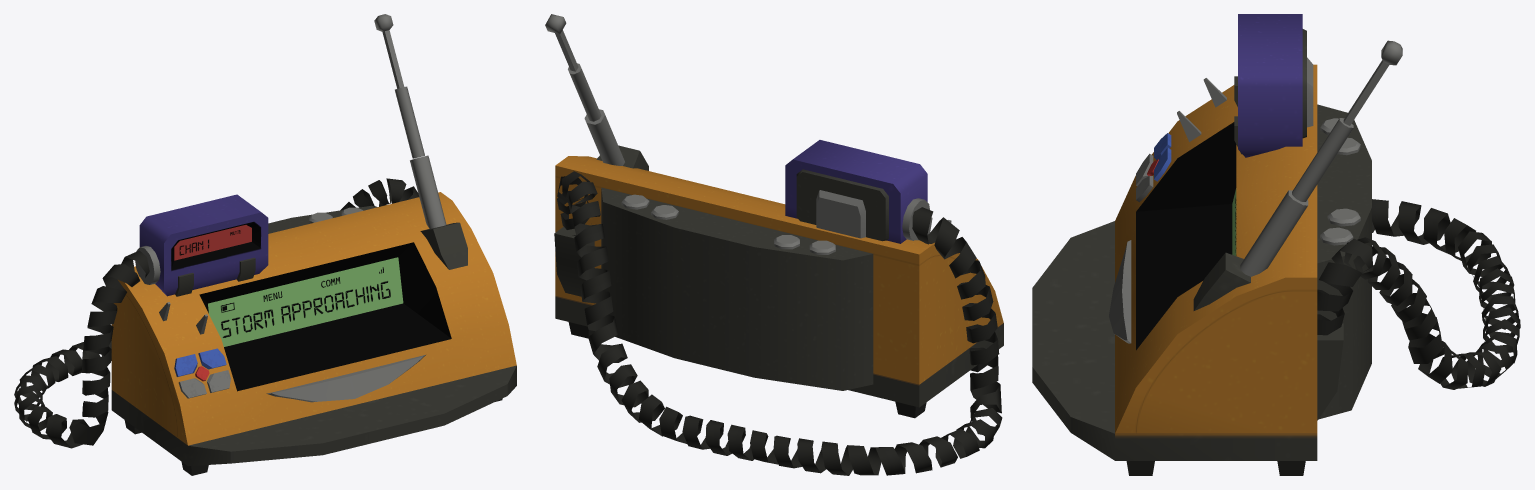
File: weather radio.fbx
3 views of the same model, side by side, from view 1: azimuth 30°, elevation 25°; view 2: azimuth 150°, elevation 25°; view 3: azimuth 270°, elevation 25° (orthographic). The views are drawn at different scales.
Visible parts, largest first — view 1: Cube.002; view 2: Cube.002; view 3: Cube.002.
Part boxes in pixels (x1,y1,x2,y2): Cube.002: (14,14,516,475); Cube.002: (545,14,1003,475); Cube.002: (1032,14,1520,475).
Bounding box in the file's own units: 306 × 232 × 244.
